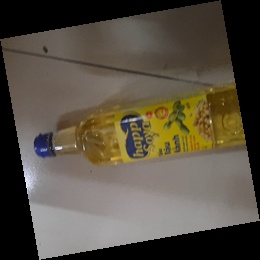Happy Soya: (33, 82, 254, 165)
